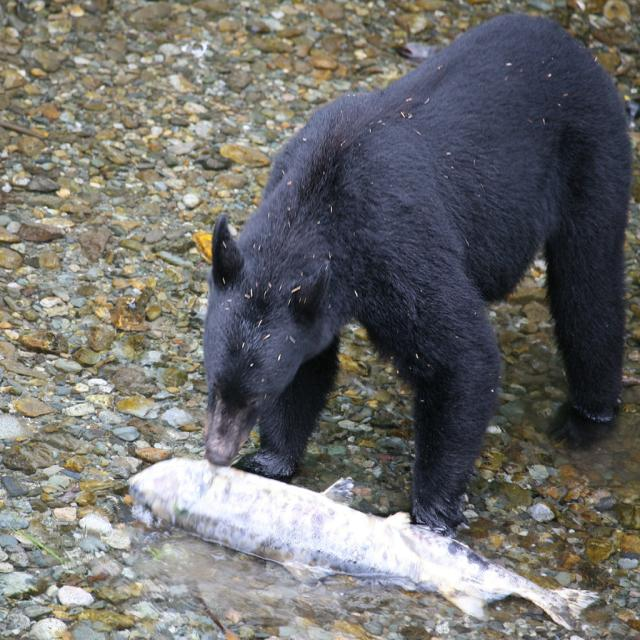Buffalo: (201, 11, 634, 540)
